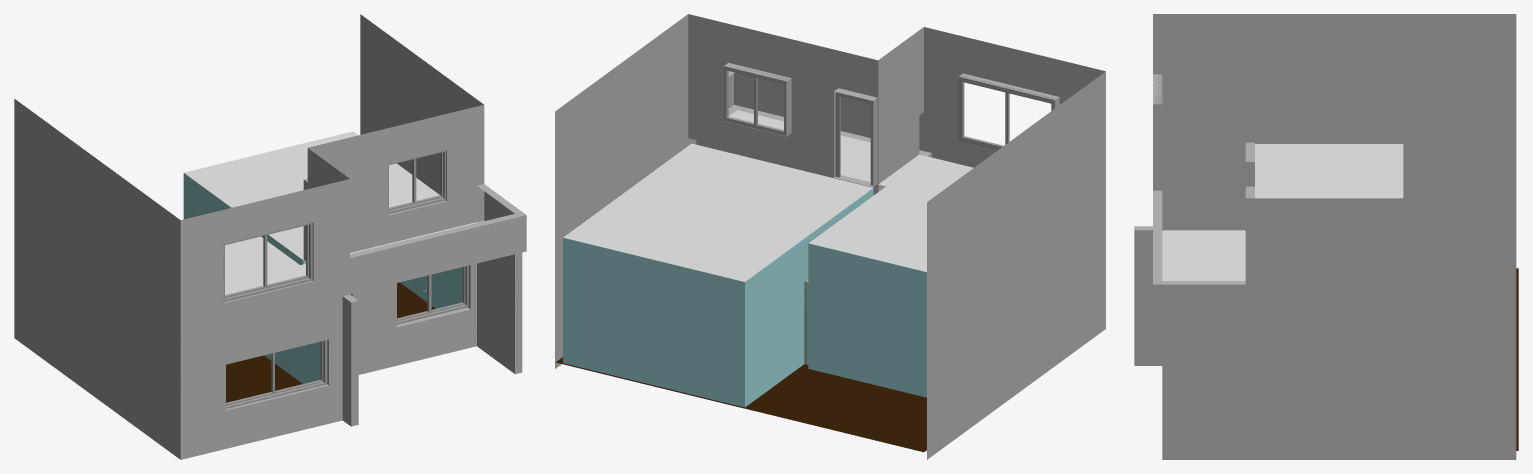
Rendered from CasaV2.fbx.
The picture shows the model from 3 angles, left to right: view 1: azimuth 30°, elevation 25°; view 2: azimuth 150°, elevation 25°; view 3: azimuth 270°, elevation 25°; orthographic projection. The views are drawn at different scales.
Parts seen in each view (by area): view 1: GEO_CasaEXT, GEO_Techo, GEO_MarcosVentanas, GEO_ParedesINT1, GEO_PisoCasa; view 2: GEO_CasaEXT, GEO_ParedesINT1, GEO_Techo, GEO_PisoCasa, GEO_MarcosVentanas, GEO_MarcosPuertas; view 3: GEO_CasaEXT, GEO_Techo, GEO_PisoCasa.
Boxes of the visible parts, x1,y1,x2,y2 form: GEO_CasaEXT: (14, 14, 526, 459); GEO_Techo: (184, 131, 477, 294); GEO_MarcosVentanas: (223, 150, 468, 408); GEO_ParedesINT1: (183, 173, 462, 383); GEO_PisoCasa: (226, 282, 435, 402); GEO_CasaEXT: (555, 14, 1105, 459); GEO_ParedesINT1: (563, 188, 926, 408); GEO_Techo: (563, 110, 973, 281); GEO_PisoCasa: (556, 357, 926, 452); GEO_MarcosVentanas: (724, 64, 1056, 149); GEO_MarcosPuertas: (804, 92, 873, 364); GEO_CasaEXT: (1134, 14, 1516, 459); GEO_Techo: (1162, 144, 1403, 280); GEO_PisoCasa: (1516, 268, 1518, 450).
Bounding box in the file's own units: 940 × 622 × 828.
